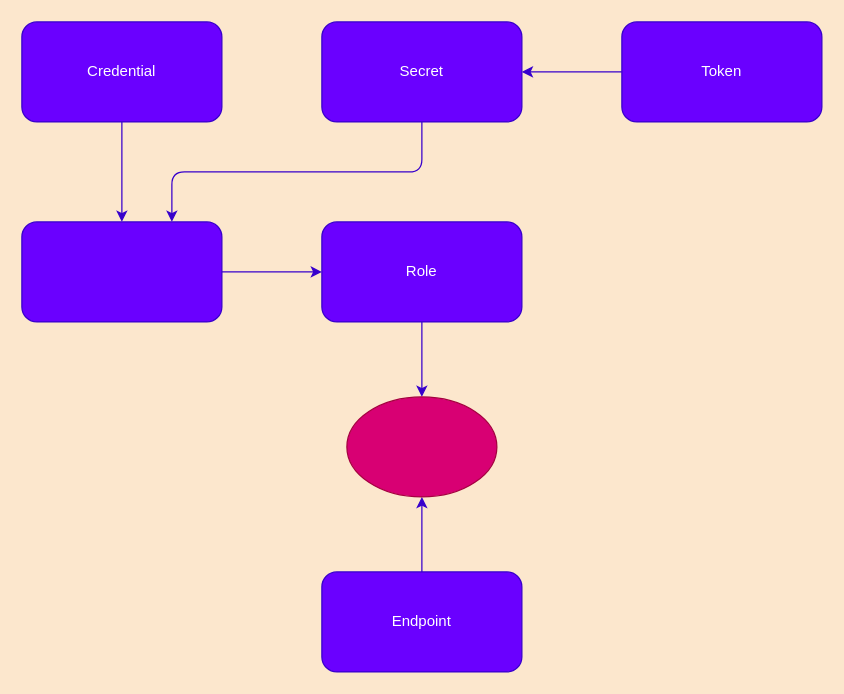
The diagram is 844 pixels wide and 694 high, and some of its shapes have lost their labels. Here are the shapes that lost their labels. From the top down, the centre of each, then its label:
the point at 121,271: User
the point at 421,446: RoleEndpoint
